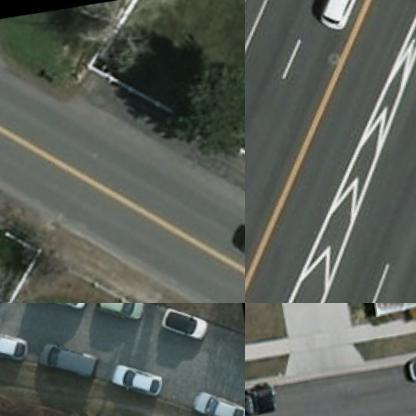car: (35, 332, 99, 380), (106, 353, 164, 398), (307, 0, 374, 32), (157, 303, 211, 342), (191, 381, 244, 415), (0, 319, 27, 365), (93, 303, 143, 321), (28, 303, 89, 315)
pickup: (245, 380, 278, 415)
